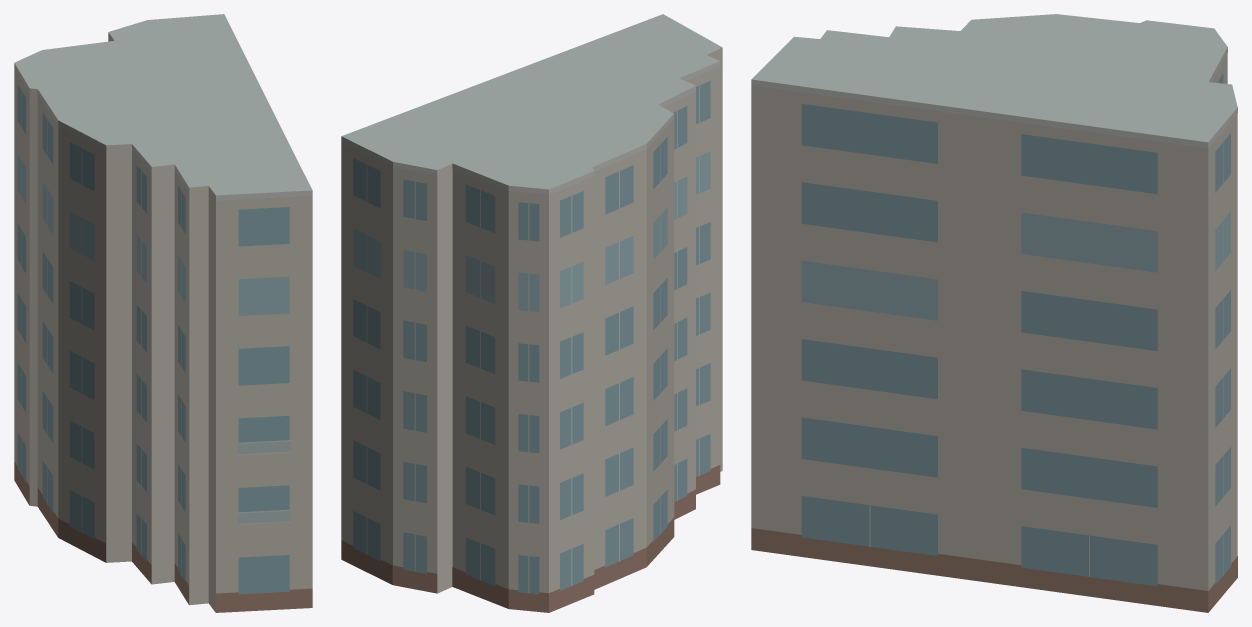
File: survey-upis-32873481.glb
3 views of the same model, side by side, from view 1: azimuth 30°, elevation 25°; view 2: azimuth 150°, elevation 25°; view 3: azimuth 270°, elevation 25° (orthographic). The views are drawn at different scales.
Parts seen in each view (by area): view 1: survey-upis-32873481.tmp; view 2: survey-upis-32873481.tmp; view 3: survey-upis-32873481.tmp.
Part boxes in pixels (box(x1,y1,x2,y2)): survey-upis-32873481.tmp: box(14, 14, 312, 612); survey-upis-32873481.tmp: box(341, 14, 722, 612); survey-upis-32873481.tmp: box(751, 14, 1237, 612).
Bounding box in the file's own units: 11.36 × 19.4 × 18.19.
